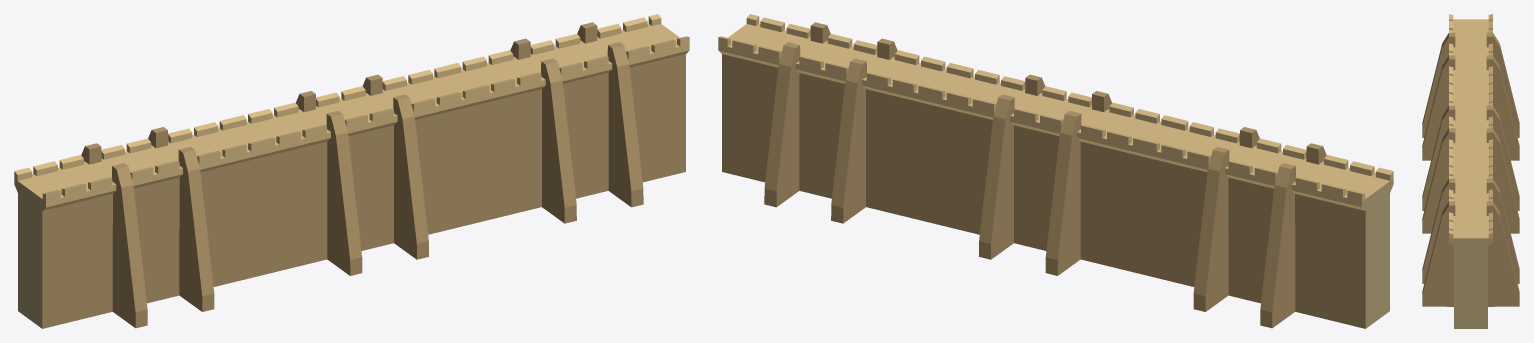
Rendered from LongWall.FBX.
The picture shows the model from 3 angles, left to right: view 1: azimuth 30°, elevation 25°; view 2: azimuth 150°, elevation 25°; view 3: azimuth 270°, elevation 25°; orthographic projection. The views are drawn at different scales.
Visible parts, largest first — view 1: polySurface1; view 2: polySurface1; view 3: polySurface1.
Part boxes in pixels (bbox=[...]): polySurface1: bbox=[14, 14, 689, 328]; polySurface1: bbox=[718, 14, 1393, 328]; polySurface1: bbox=[1422, 14, 1519, 328].
Bounding box in the file's own units: 40.15 × 8.65 × 7.55.
1 material, 1 textured.
